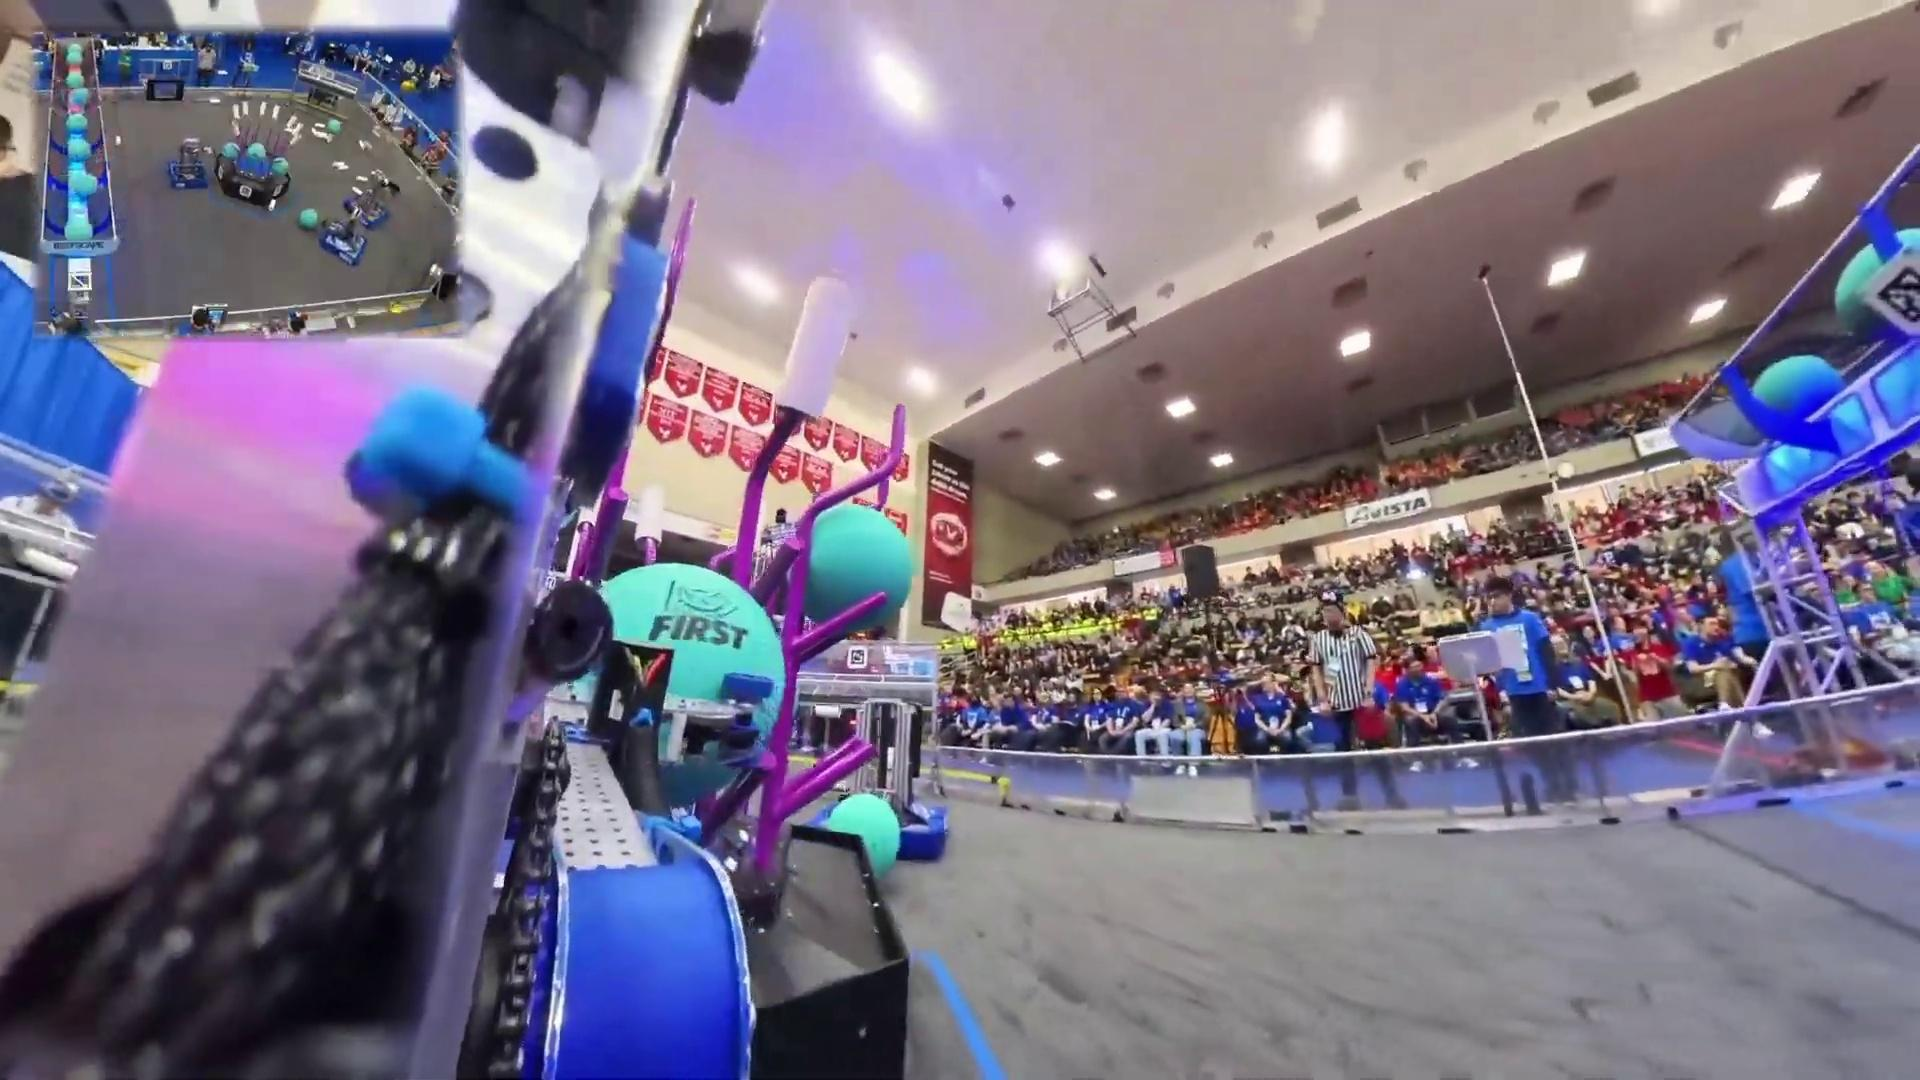robot: (843, 700, 949, 866), (314, 206, 365, 269), (345, 170, 394, 235), (166, 135, 214, 191)
